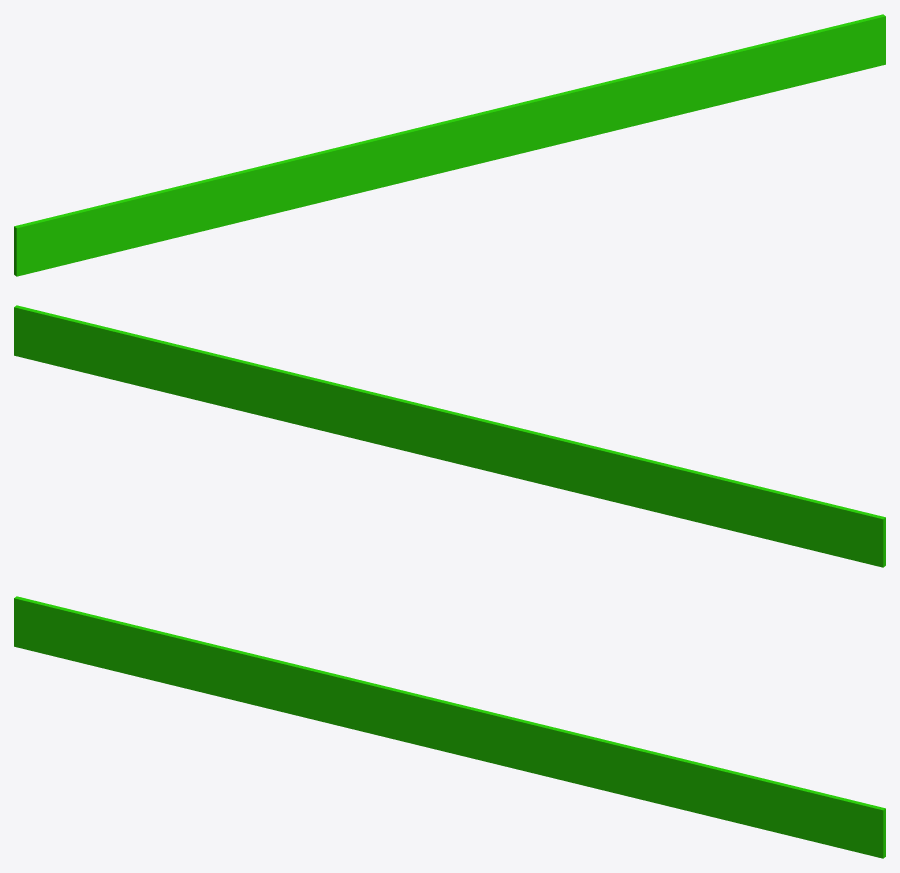
File: W03_Wall_Int_11.fbx
3 renders of one model, top to bottom at view 1: azimuth 30°, elevation 25°; view 2: azimuth 150°, elevation 25°; view 3: azimuth 330°, elevation 25°, orthographic.
Visible parts, largest first — view 1: W03_Wall_Int_11; view 2: W03_Wall_Int_11; view 3: W03_Wall_Int_11.
Boxes of the visible parts, x1,y1,x2,y2 form: W03_Wall_Int_11: (14, 14, 885, 276); W03_Wall_Int_11: (14, 305, 885, 567); W03_Wall_Int_11: (14, 596, 885, 858).
Bounding box in the file's own units: 1790 × 95.19 × 9.88.
